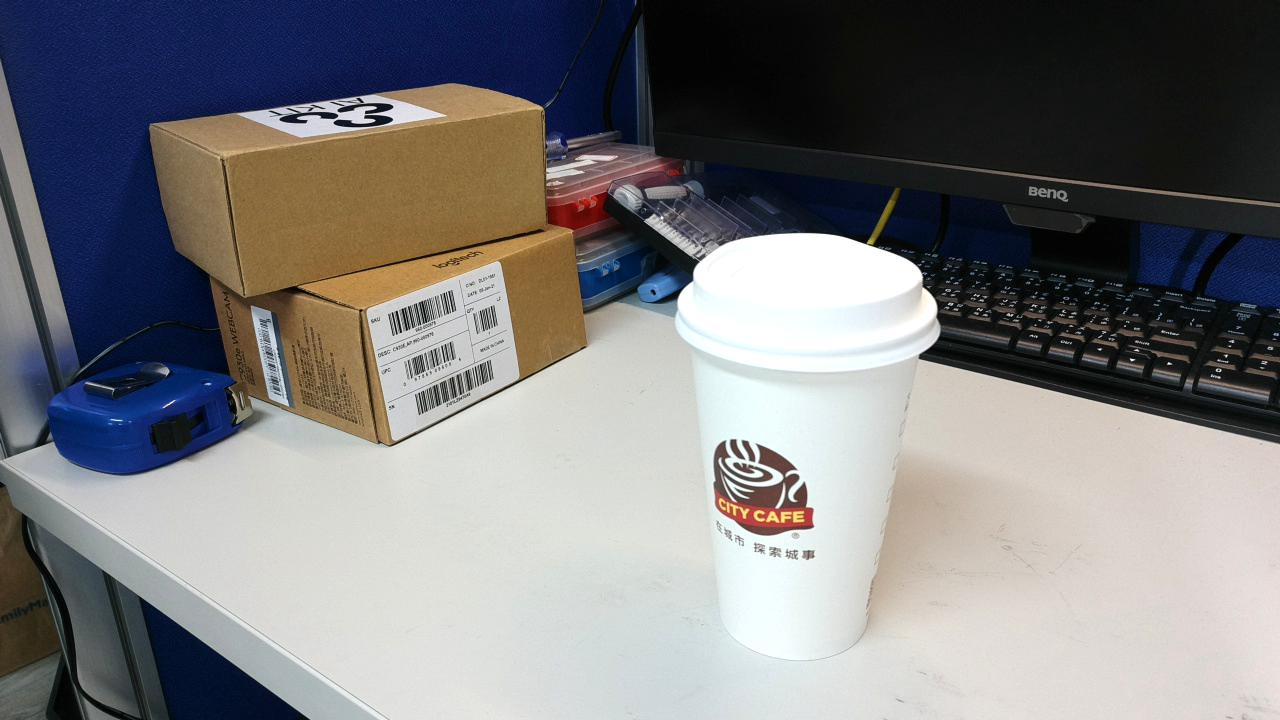long: (588, 519, 890, 573)
